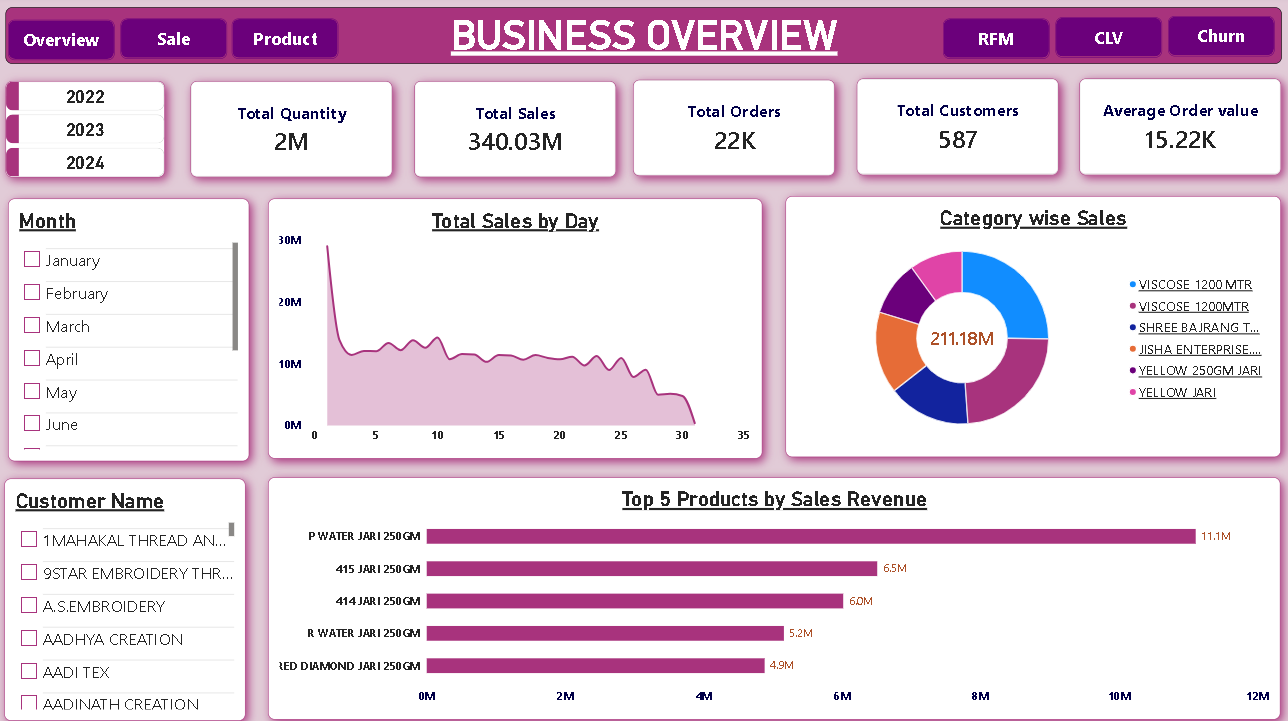

The dashboard page shown, as its layout file describes it:
{"tool":"powerbi","page":{"name":"Overview","canvas":[1920,1080],"ordinal":1},"visuals":[{"type":"cardVisual","fields":{"Data":["Master_Data.Average Order value"]},"box":[1605.5,121.8,300,143.6],"z":0},{"type":"cardVisual","fields":{"Data":["Master_Data.Total Quantity"]},"box":[285.5,125.5,300,143],"z":1000},{"type":"cardVisual","fields":{"Data":["Master_Data.Total Orders"]},"box":[943.6,123.6,300,143],"z":2000},{"type":"cardVisual","title":"total","fields":{"Data":["Master_Data.Total Customers"]},"box":[1276.4,121.8,300,143.6],"z":3000},{"type":"cardVisual","fields":{"Data":["Master_Data.Total Sales"]},"box":[618.2,125.5,300,143],"z":4000},{"type":"slicer","title":"Month","fields":{"Values":["Master_Data.Bill Date.Variation.Date Hierarchy.Month"]},"box":[14.7,300.8,358,390],"z":5000},{"type":"slicer","title":"Customer Name","fields":{"Values":["Master_Data.Customer Name"]},"box":[10,716,358,360],"z":6000},{"type":"lineChart","fields":{"Category":["Master_Data.Bill Date.Variation.Date Hierarchy.Day"],"Y":["Master_Data.Total Sales"]},"box":[402,300,734,386],"z":7000},{"type":"donutChart","title":"Category wise Sales","fields":{"Category":["Master_Data.Product Category"],"Y":["Master_Data.Total Sales"]},"box":[1170,298,736,388],"z":8000},{"type":"barChart","title":"Top 5 Products by Sales Revenue","fields":{"Category":["Master_Data.Product Name"],"Y":["Master_Data.Total Sales1"]},"box":[401.7,715.4,1504,360],"z":9000},{"type":"advancedSlicerVisual","fields":{"Values":["Master_Data.Bill Date.Variation.Date Hierarchy.Year"]},"box":[10.9,125.5,237,143],"z":10000},{"type":"textbox","box":[100.9,100.9,298.5,20.6],"z":11000},{"type":"textbox","box":[387.3,0,381.8,100],"z":12000},{"type":"textbox","box":[0,0,10,336],"z":13000},{"type":"textbox","title":"BUSINESS OVERVIEW ","box":[10.3,16.5,1896,84],"z":14000},{"type":"actionButton","box":[14.4,35,158.5,59.7],"z":14001},{"type":"actionButton","box":[181.1,32.9,158.5,59.7],"z":14002},{"type":"actionButton","box":[347.9,32.9,158.5,59.7],"z":14003},{"type":"actionButton","box":[1737.2,28.8,158.5,59.7],"z":14004},{"type":"actionButton","box":[1570.5,30.9,158.5,59.7],"z":14005},{"type":"actionButton","box":[1403.8,32.9,158.5,59.7],"z":14006}]}

Visuals, with their boxes in screenshot pixels (x1, y1, x2, y2), scaled from the page's 1920x1080 canvas onto the 1288x721 screenshot:
cardVisual - Master_Data.Average Order value: <bbox>1077, 81, 1278, 177</bbox>
cardVisual - Master_Data.Total Quantity: <bbox>192, 84, 393, 179</bbox>
cardVisual - Master_Data.Total Orders: <bbox>633, 83, 834, 178</bbox>
"total" cardVisual: <bbox>856, 81, 1058, 177</bbox>
cardVisual - Master_Data.Total Sales: <bbox>415, 84, 616, 179</bbox>
"Month" slicer: <bbox>10, 201, 250, 461</bbox>
"Customer Name" slicer: <bbox>7, 478, 247, 718</bbox>
lineChart - Master_Data.Bill Date.Variation.Date Hierarchy.Day x Master_Data.Total Sales: <bbox>270, 200, 762, 458</bbox>
"Category wise Sales" donutChart: <bbox>785, 199, 1279, 458</bbox>
"Top 5 Products by Sales Revenue" barChart: <bbox>269, 478, 1278, 718</bbox>
advancedSlicerVisual - Master_Data.Bill Date.Variation.Date Hierarchy.Year: <bbox>7, 84, 166, 179</bbox>
textbox: <bbox>68, 67, 268, 81</bbox>
textbox: <bbox>260, 0, 516, 67</bbox>
textbox: <bbox>0, 0, 7, 224</bbox>
"BUSINESS OVERVIEW " textbox: <bbox>7, 11, 1279, 67</bbox>
actionButton: <bbox>10, 23, 116, 63</bbox>
actionButton: <bbox>121, 22, 228, 62</bbox>
actionButton: <bbox>233, 22, 340, 62</bbox>
actionButton: <bbox>1165, 19, 1272, 59</bbox>
actionButton: <bbox>1054, 21, 1160, 60</bbox>
actionButton: <bbox>942, 22, 1048, 62</bbox>
